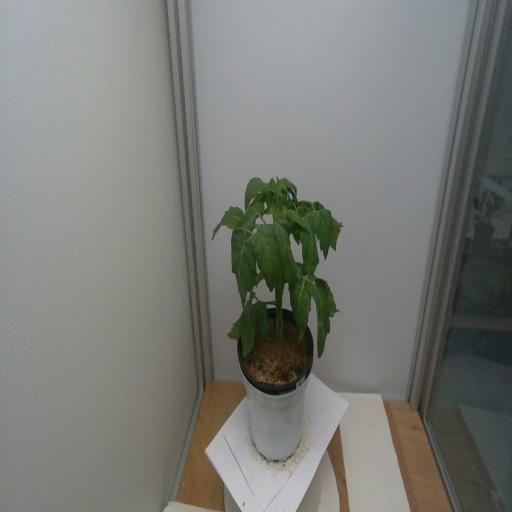Tomato-Leaves-Cupboard-: (225, 304, 269, 359), (230, 229, 256, 305), (254, 222, 278, 293), (311, 272, 327, 360), (280, 219, 300, 289), (292, 280, 312, 345), (210, 199, 240, 236), (314, 208, 336, 258), (240, 164, 266, 203), (325, 281, 348, 325), (302, 224, 318, 275), (331, 213, 349, 251), (282, 201, 312, 223), (240, 204, 266, 227), (268, 178, 284, 200), (284, 174, 299, 196), (268, 203, 282, 219)
